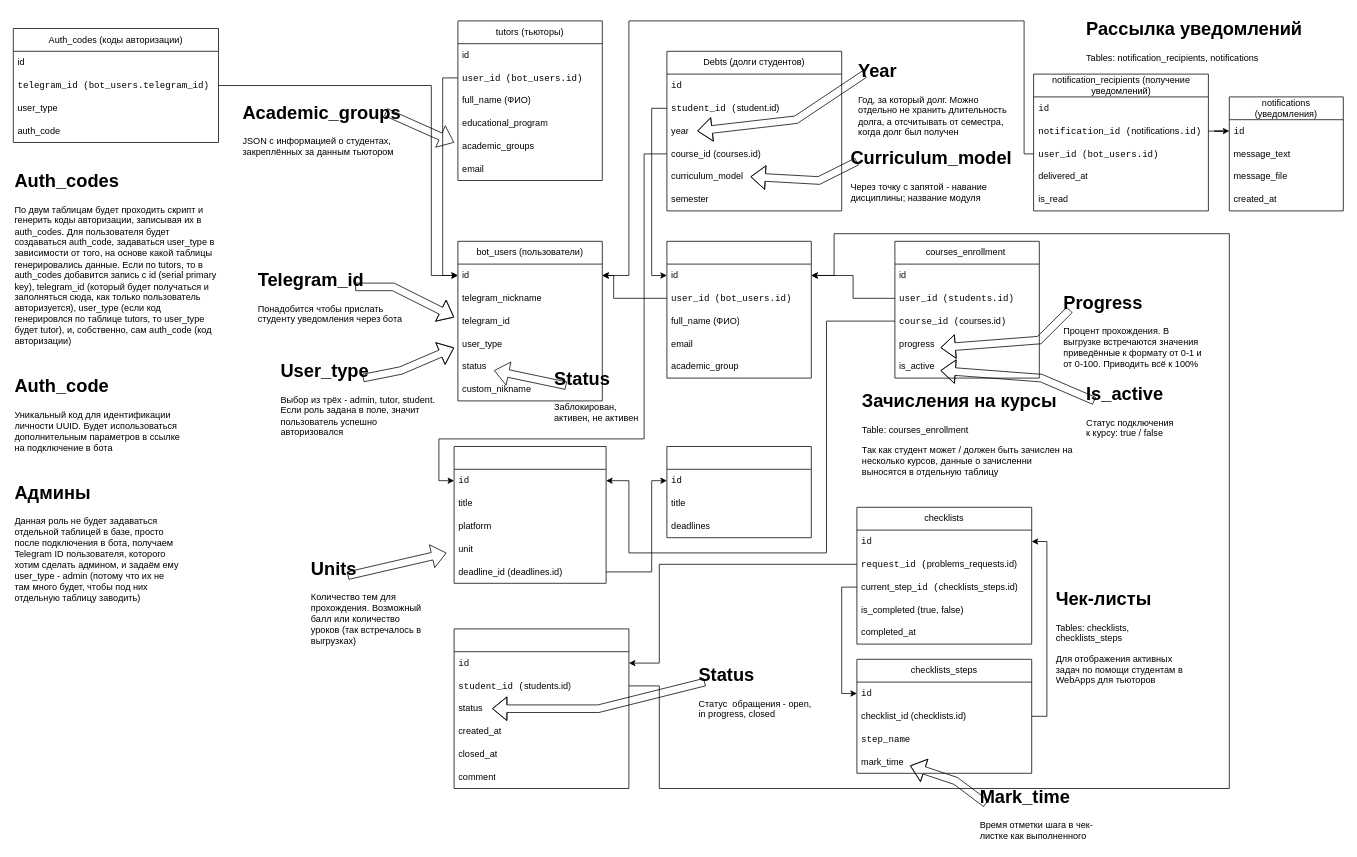
The diagram is 1357 pixels wide and 857 high, and some of its shapes have lost their labels. The shapes that lost their labels are listed below. From the top down, each one's box as (x1, y1, x2, y2) in pixels, then its label:
(666, 241, 811, 378): students (студенты)
(666, 446, 811, 538): deadlines (дедлайны по курсам)
(453, 446, 606, 583): courses (онлайн курсы)
(453, 628, 629, 788): problems_requests
